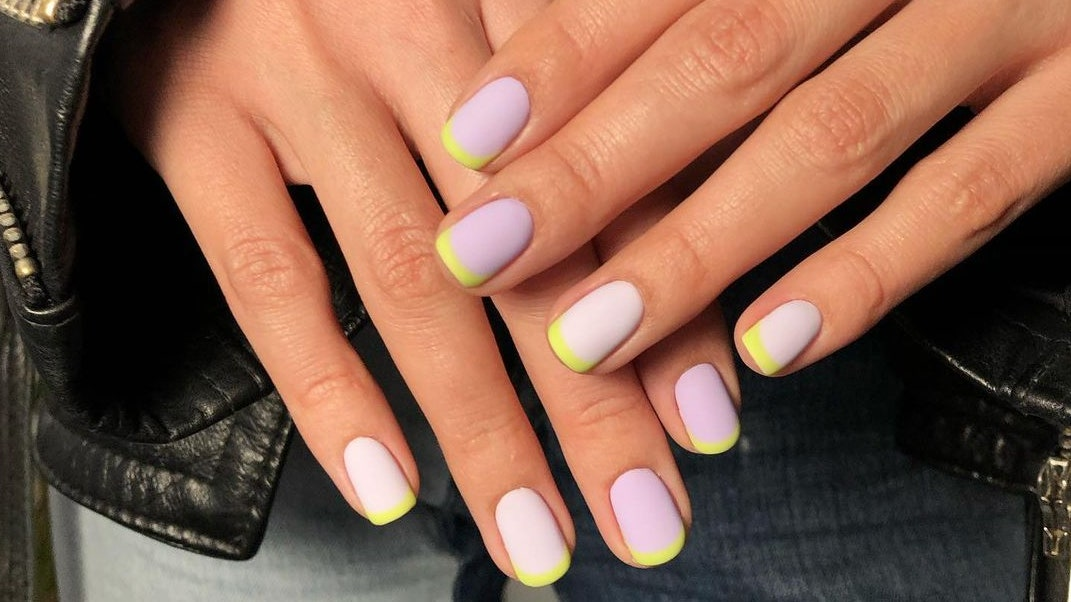nails: (543, 275, 646, 379), (433, 194, 537, 292), (440, 69, 532, 173), (489, 483, 575, 589), (605, 462, 690, 569), (735, 294, 826, 382), (339, 432, 417, 527), (672, 359, 743, 459)
